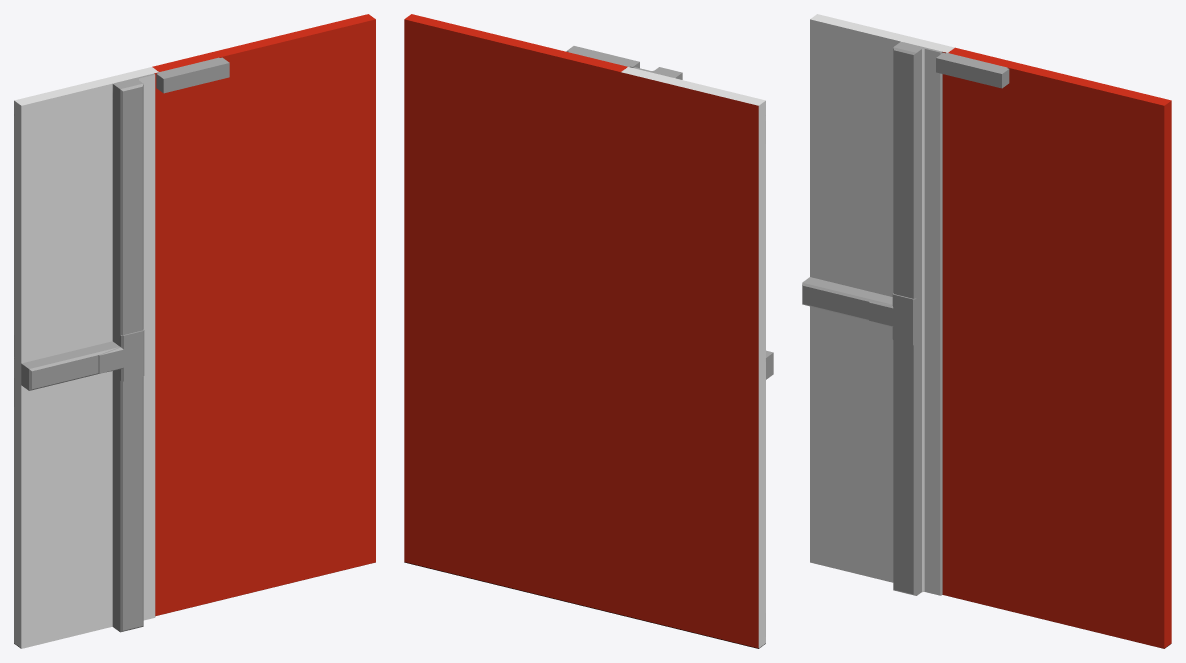
File: Entrance01.FBX
The picture shows the model from 3 angles, left to right: view 1: azimuth 30°, elevation 25°; view 2: azimuth 150°, elevation 25°; view 3: azimuth 330°, elevation 25°; orthographic projection.
Visible parts, largest first — view 1: Box001; view 2: Box001; view 3: Box001.
Part boxes in pixels (<box>): Box001: <box>14,14,375,648</box>; Box001: <box>404,14,773,648</box>; Box001: <box>802,14,1171,648</box>.
Bounding box in the file's own units: 140 × 205 × 11.5.
